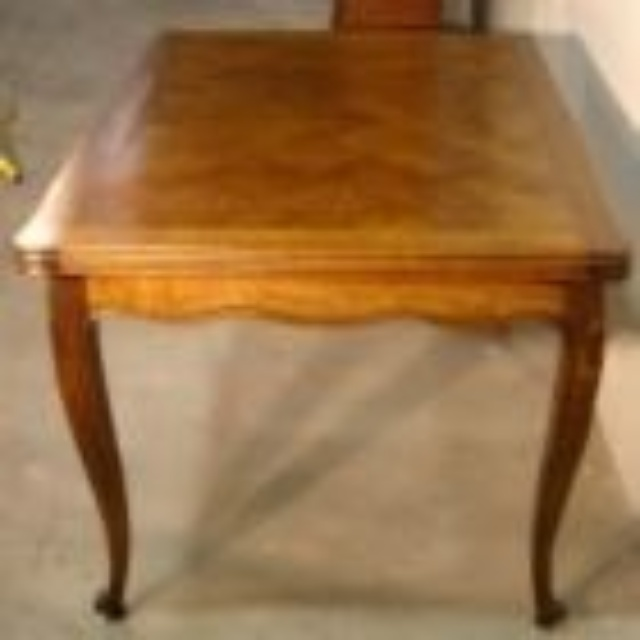obstacle: (18, 5, 622, 625)
